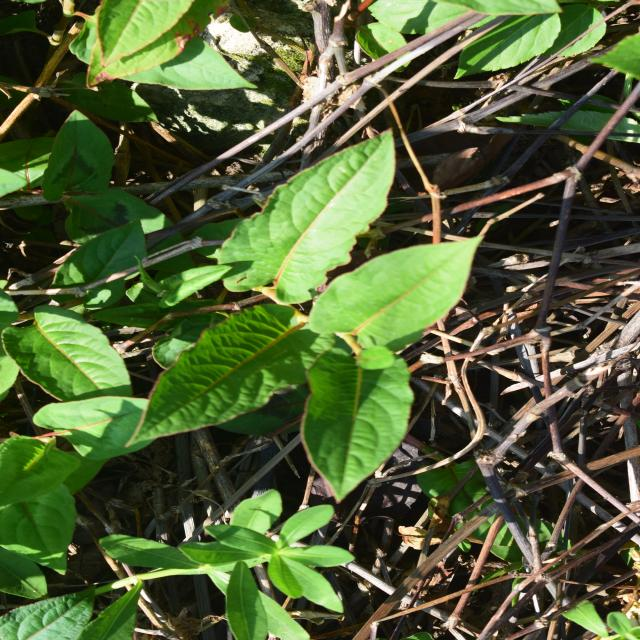Chinese_knotweed: (147, 124, 511, 491)
